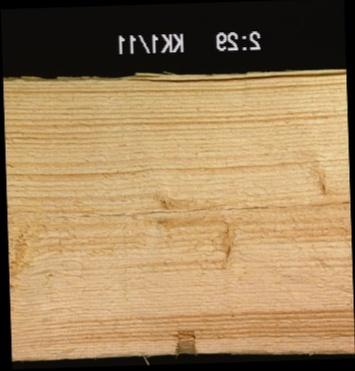split: (11, 197, 349, 217), (120, 70, 345, 82)
